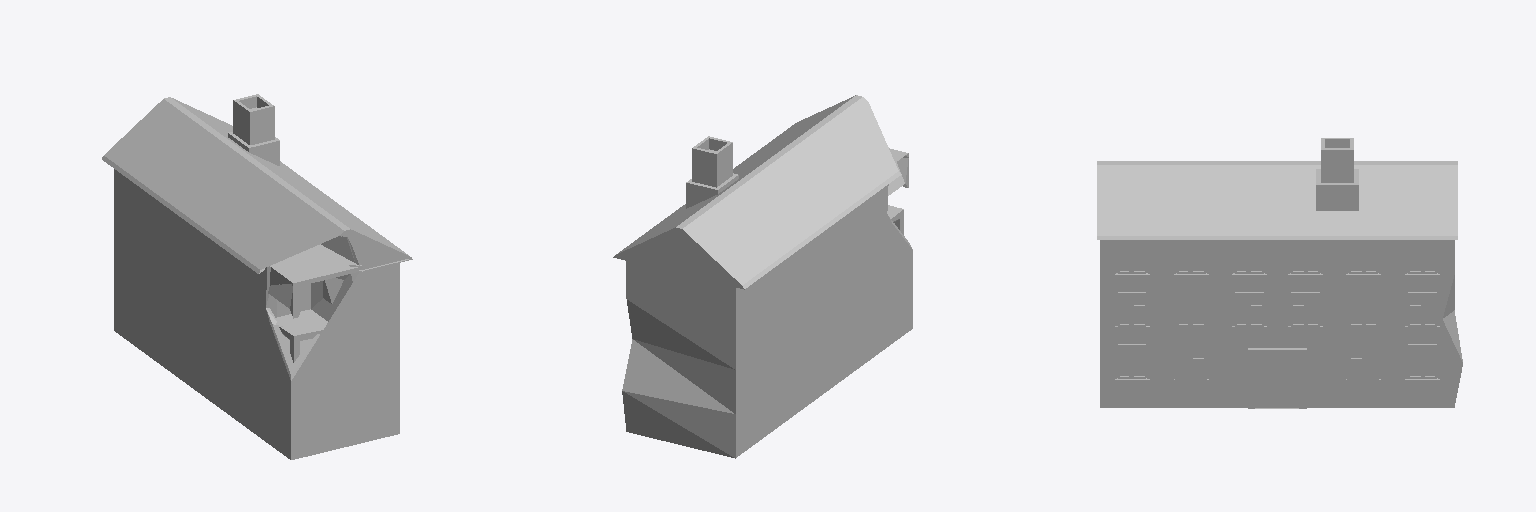
The model's file is build2.obj.
The picture shows the model from 3 angles: view 1: azimuth 30°, elevation 25°; view 2: azimuth 150°, elevation 25°; view 3: azimuth 270°, elevation 25°; orthographic projection.
Parts seen in each view (by area): view 1: Cube_Cube.005, Cube.001_Cube.007, Cube.014_Cube.002, Cube.013_Cube.001, Cube.012_Cube.009; view 2: Cube_Cube.005, Cube.001_Cube.007, Cube.012_Cube.009, Cube.013_Cube.001; view 3: Cube_Cube.005, Cube.001_Cube.007, Cube.010_Cube.016, Cube.012_Cube.009, Cube.008_Cube.019, Cube.009_Cube.023, Cube.007_Cube.015, Cube.003_Cube.004, Cube.005_Cube.008, Cube.006_Cube.012, Cube.004_Cube.006, Cube.020_Cube.025.
Boxes of the visible parts, <box> form: Cube_Cube.005: <box>114,169,399,459</box>; Cube.001_Cube.007: <box>102,97,412,273</box>; Cube.014_Cube.002: <box>269,274,352,362</box>; Cube.013_Cube.001: <box>268,236,360,318</box>; Cube.012_Cube.009: <box>228,94,279,165</box>; Cube_Cube.005: <box>622,184,912,458</box>; Cube.001_Cube.007: <box>613,95,901,289</box>; Cube.012_Cube.009: <box>686,136,738,208</box>; Cube.013_Cube.001: <box>888,148,908,195</box>; Cube_Cube.005: <box>1100,240,1462,407</box>; Cube.001_Cube.007: <box>1097,161,1457,239</box>; Cube.010_Cube.016: <box>1248,348,1306,408</box>; Cube.012_Cube.009: <box>1316,138,1358,210</box>; Cube.008_Cube.019: <box>1232,292,1322,328</box>; Cube.009_Cube.023: <box>1115,292,1439,328</box>; Cube.007_Cube.015: <box>1115,344,1439,380</box>; Cube.003_Cube.004: <box>1232,240,1322,275</box>; Cube.005_Cube.008: <box>1174,240,1380,275</box>; Cube.006_Cube.012: <box>1174,293,1380,328</box>; Cube.004_Cube.006: <box>1115,240,1439,275</box>; Cube.020_Cube.025: <box>1174,345,1380,380</box>.
Size of the model in its own units: 5.56 by 10.13 by 13.43.